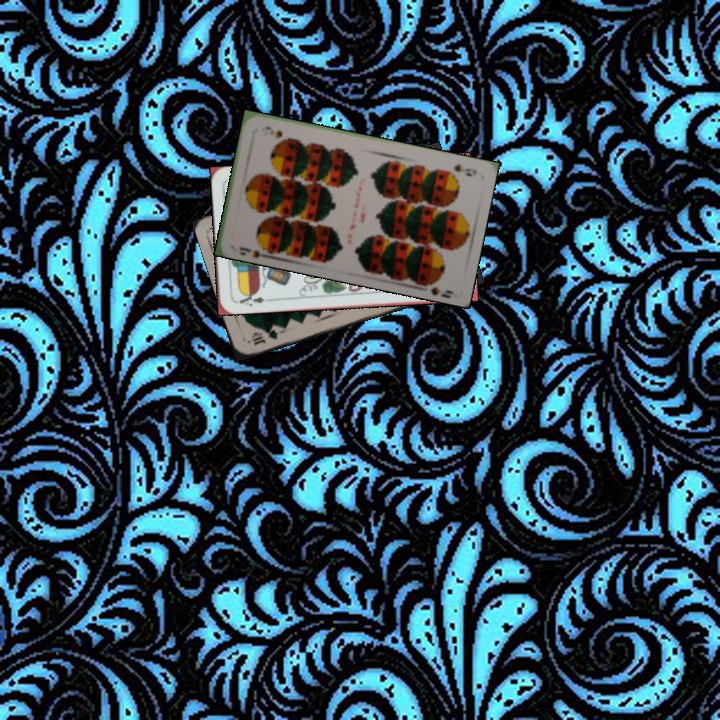EA: (232, 289, 267, 309)
G10: (247, 325, 281, 347)
S9: (235, 239, 271, 257), (450, 160, 479, 179)
